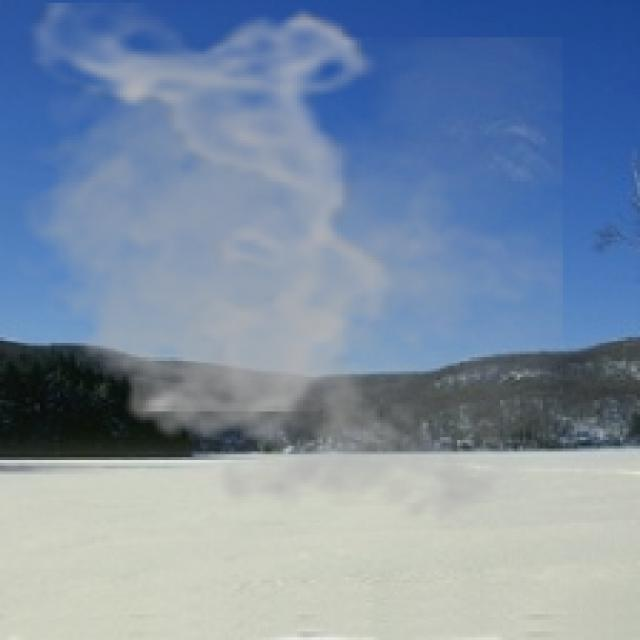Smoke: (3, 2, 563, 538)
